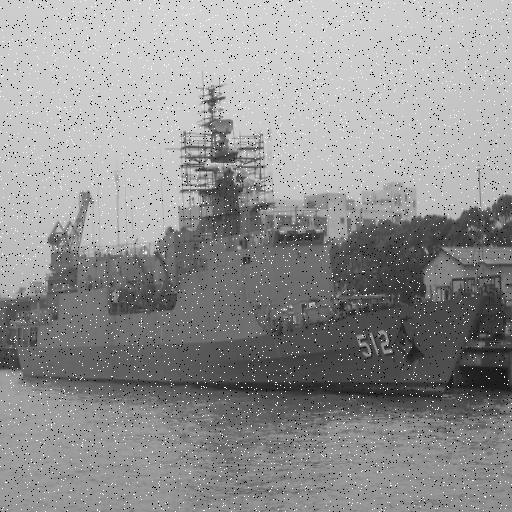Fragata: (10, 60, 496, 401)
